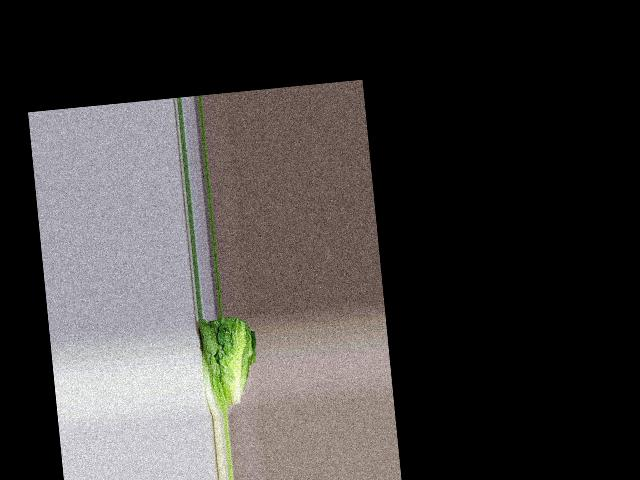lettuce: (195, 314, 255, 412)
